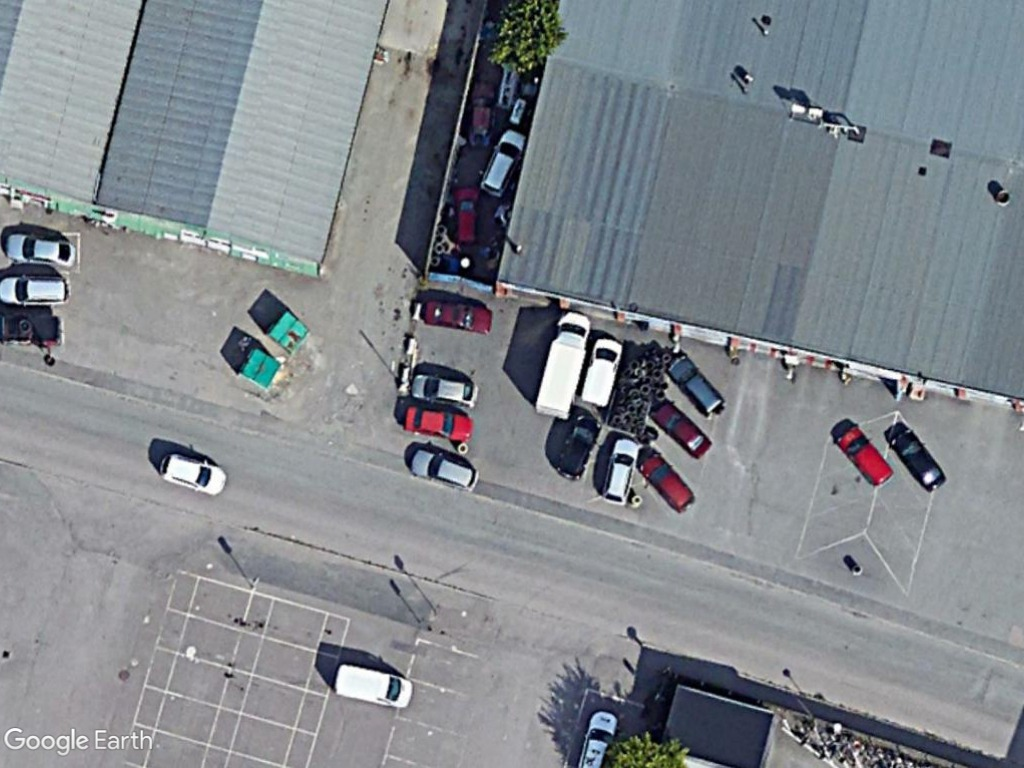car: (886, 421, 950, 495), (665, 350, 727, 421), (647, 394, 713, 460), (830, 421, 893, 488), (576, 334, 629, 409), (636, 449, 696, 515), (476, 125, 529, 199), (407, 443, 484, 493), (155, 449, 231, 498), (554, 411, 605, 480), (400, 400, 476, 446), (408, 369, 484, 412), (598, 434, 642, 506), (422, 294, 499, 335), (5, 230, 80, 269), (0, 269, 74, 307), (449, 179, 488, 249)
van: (528, 305, 596, 424), (329, 660, 417, 712)
